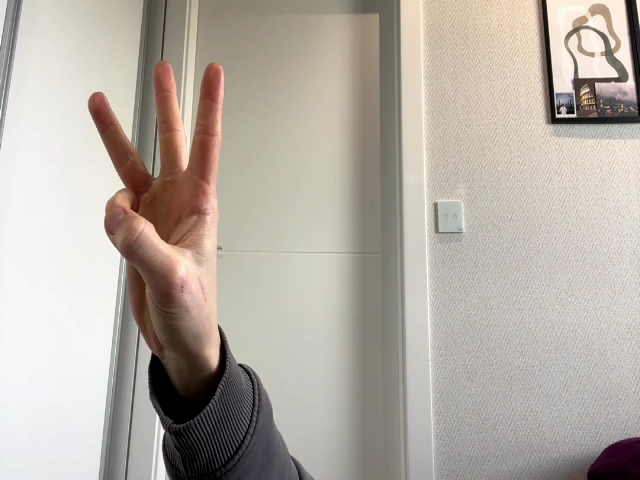W: (88, 61, 225, 348)
